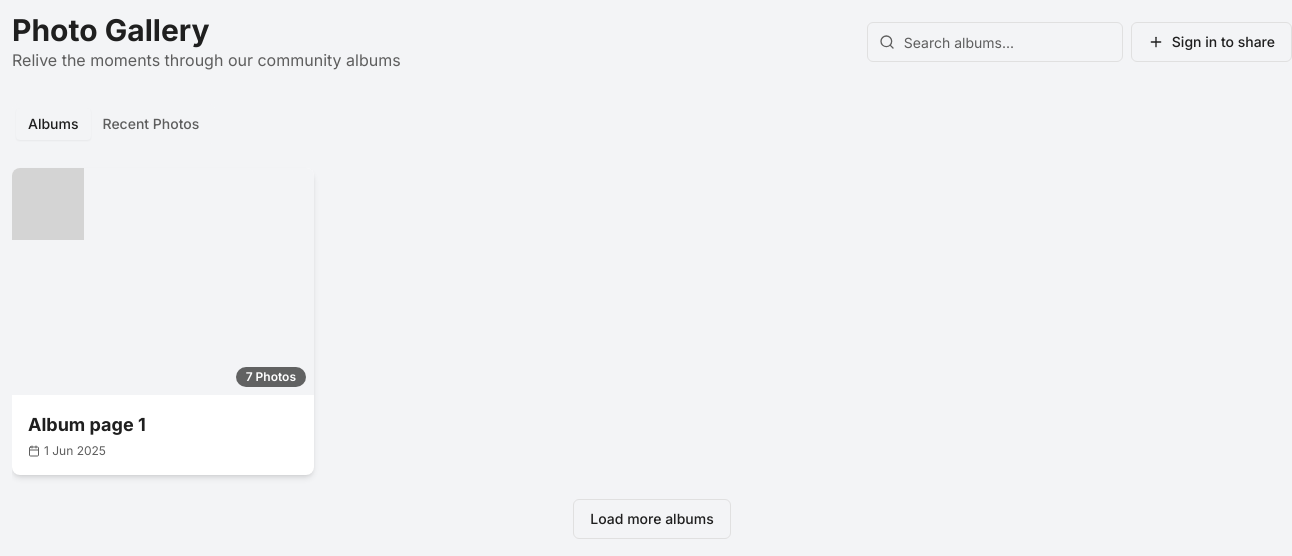
Test: Gallery page › loads more albums page by page
Expected: the heading "Album page 1" is shown, [28,414,146,434]
Click the button "Load more albums".
click(652, 518)  # box [573,498,731,538]
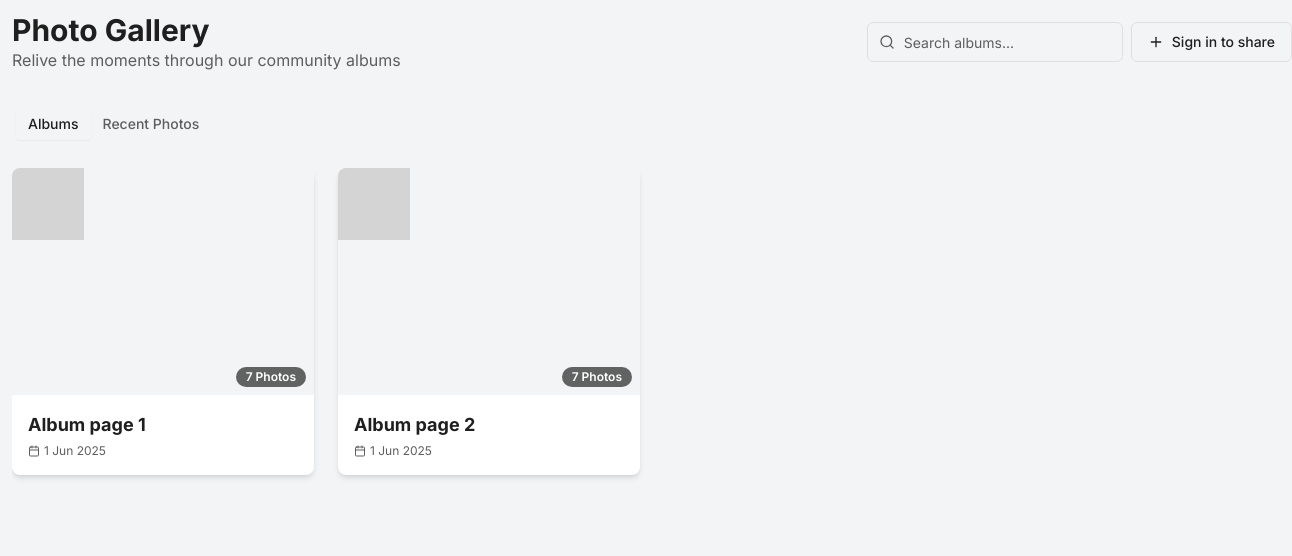
Expected: the heading "Album page 1" is shown, [28,414,146,434]
Expected: the heading "Album page 2" is shown, [354,414,475,434]
Expected: the button "Load more albums" is gone
